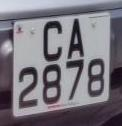2: (14, 65, 41, 110)
7: (64, 58, 87, 105)
8: (38, 62, 67, 105), (85, 52, 107, 105)
A: (64, 16, 87, 59)
C: (41, 18, 64, 62)
